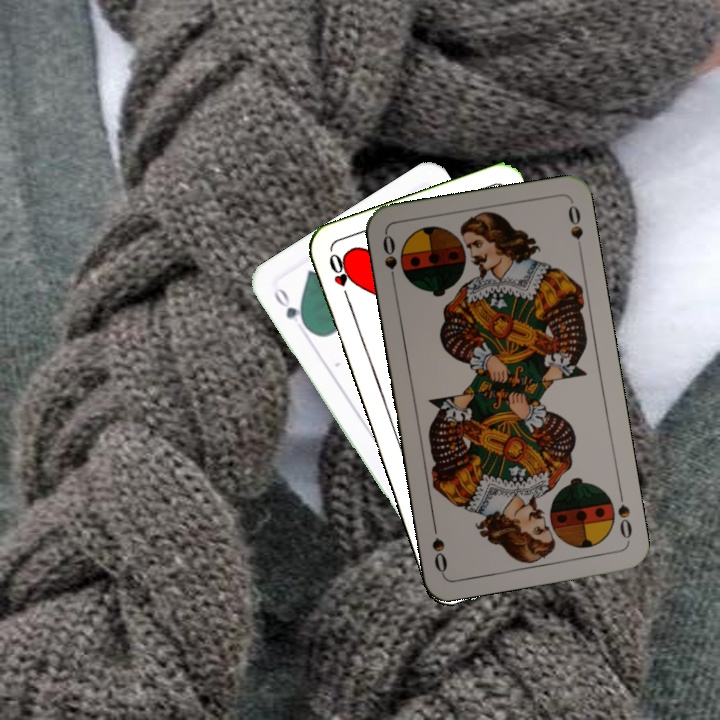GO: (269, 284, 312, 333)
HO: (325, 249, 353, 306)
SO: (378, 230, 400, 289), (613, 485, 635, 544)
